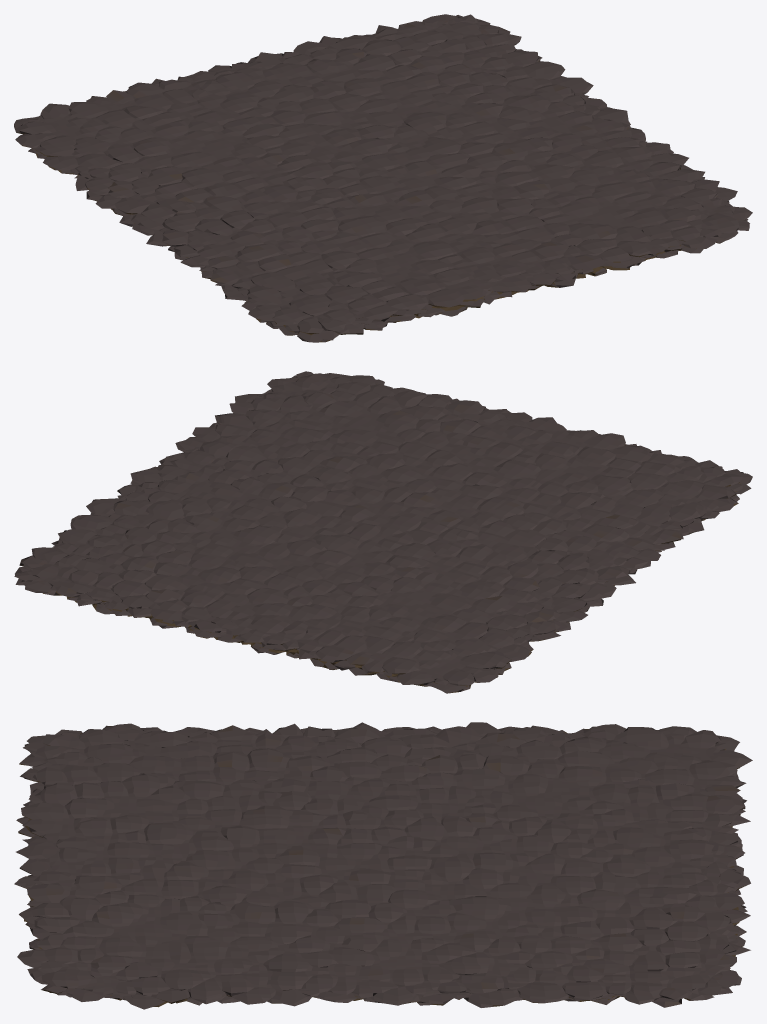
File: DecoPlane.fbx
3 renders of one model, top to bottom at view 1: azimuth 30°, elevation 25°; view 2: azimuth 150°, elevation 25°; view 3: azimuth 270°, elevation 25°, orthographic. The views are drawn at different scales.
Visible parts, largest first — view 1: Boden; view 2: Boden; view 3: Boden.
Boxes of the visible parts, bbox=[...] form: Boden: bbox=[14, 14, 752, 342]; Boden: bbox=[14, 371, 752, 693]; Boden: bbox=[14, 722, 752, 1009].
Bounding box in the file's own units: 30.66 × 33.48 × 0.8368.
